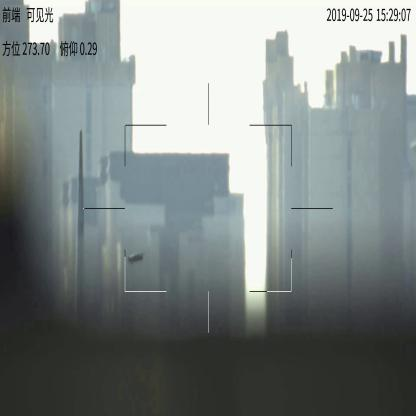uav: (127, 251, 144, 264)
